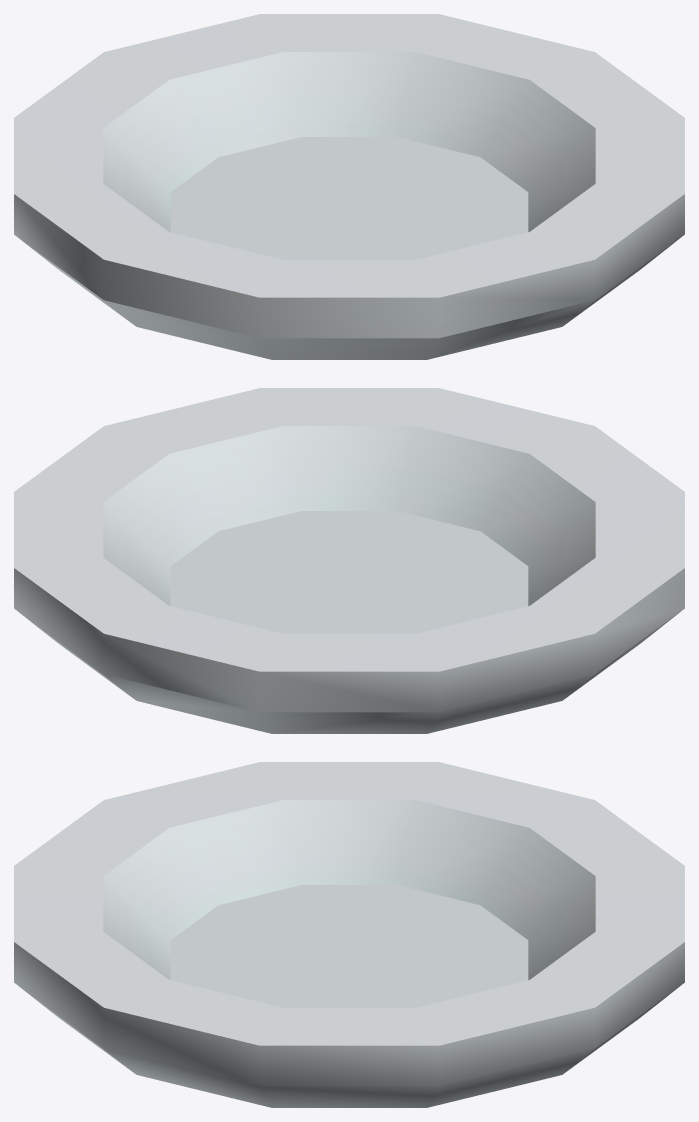
File: kaykit-restaurant-bits-plate-small.glb
The picture shows the model from 3 angles, top to bottom: view 1: azimuth 30°, elevation 25°; view 2: azimuth 150°, elevation 25°; view 3: azimuth 270°, elevation 25°; orthographic projection.
Parts seen in each view (by area): view 1: plate_small; view 2: plate_small; view 3: plate_small.
Part boxes in pixels (bbox=[...]): plate_small: bbox=[14, 14, 684, 359]; plate_small: bbox=[14, 388, 684, 733]; plate_small: bbox=[14, 762, 684, 1107].
Bounding box in the file's own units: 0.75 × 0.1 × 0.75.
Materials: 1 (1 with a texture image).
